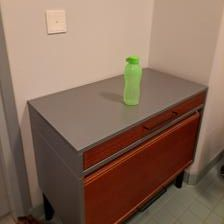bottle: (123, 53, 141, 105)
